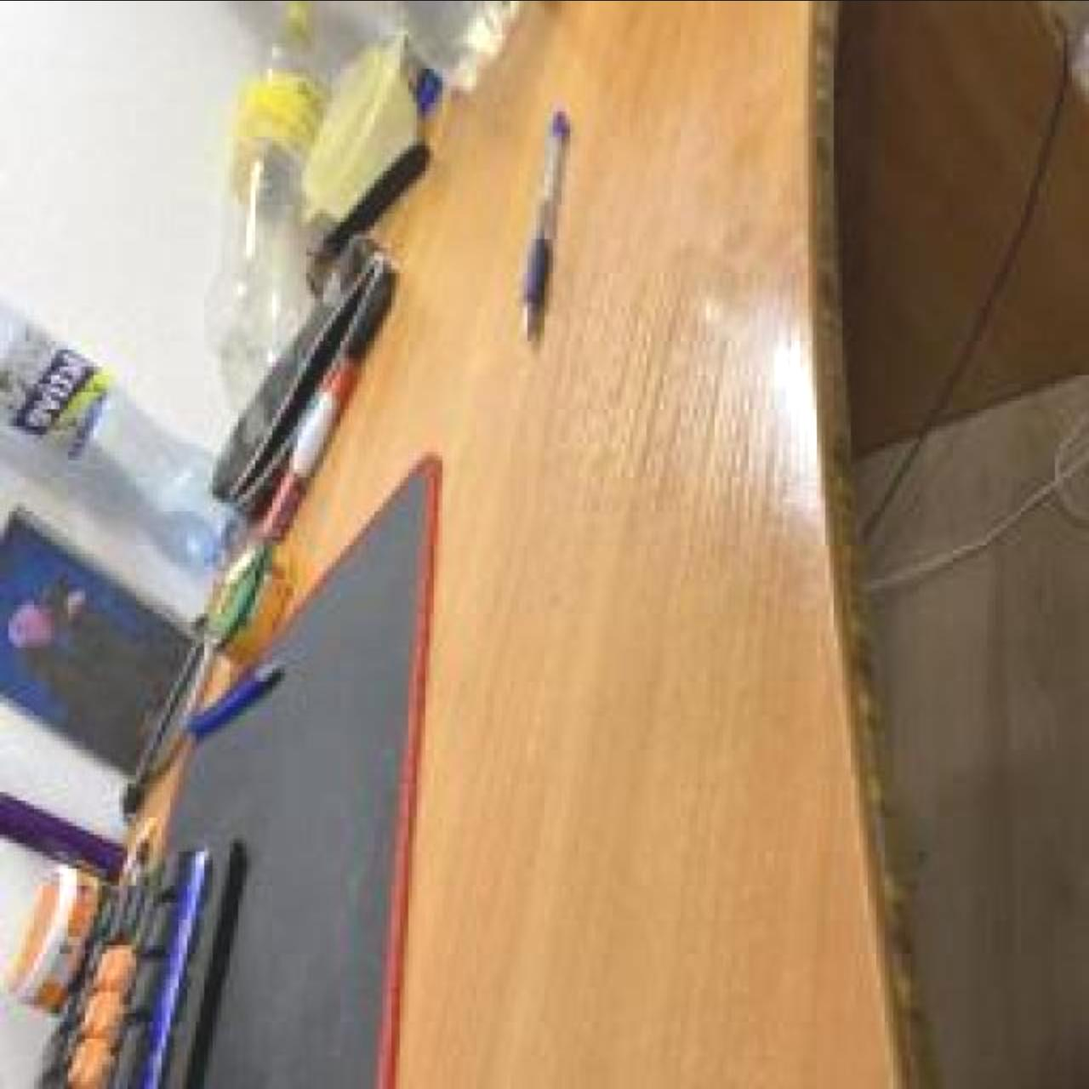pen: (519, 111, 570, 345)
